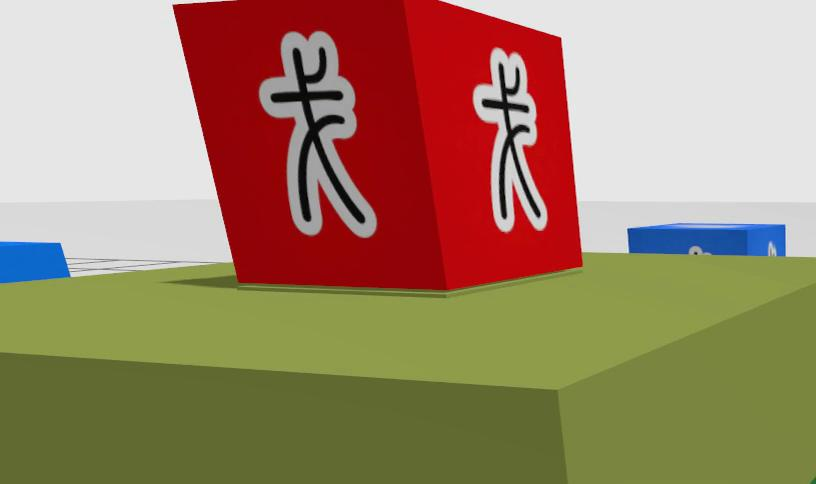KFS_FAKE: (174, 0, 581, 289), (259, 31, 377, 238), (473, 49, 547, 232)
